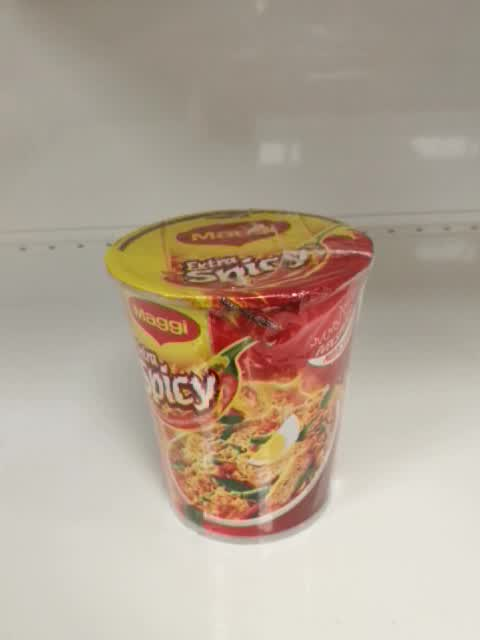maggi: (104, 209, 376, 548)
